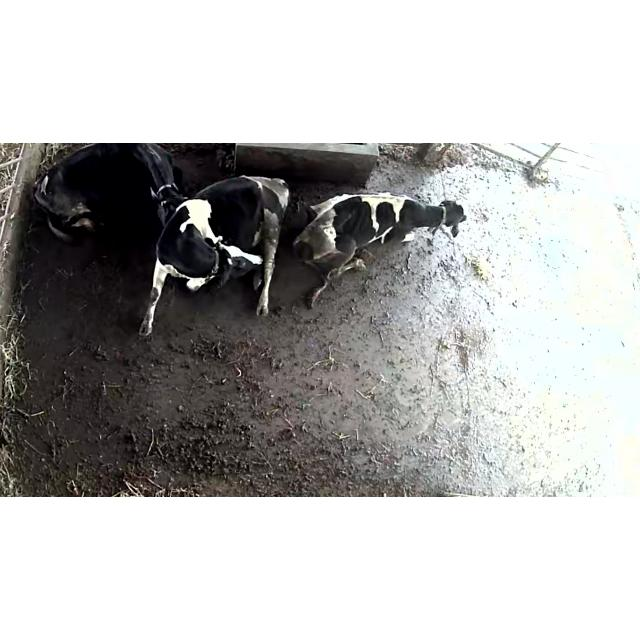lay: (141, 172, 293, 340), (297, 174, 469, 310), (28, 144, 182, 232)
